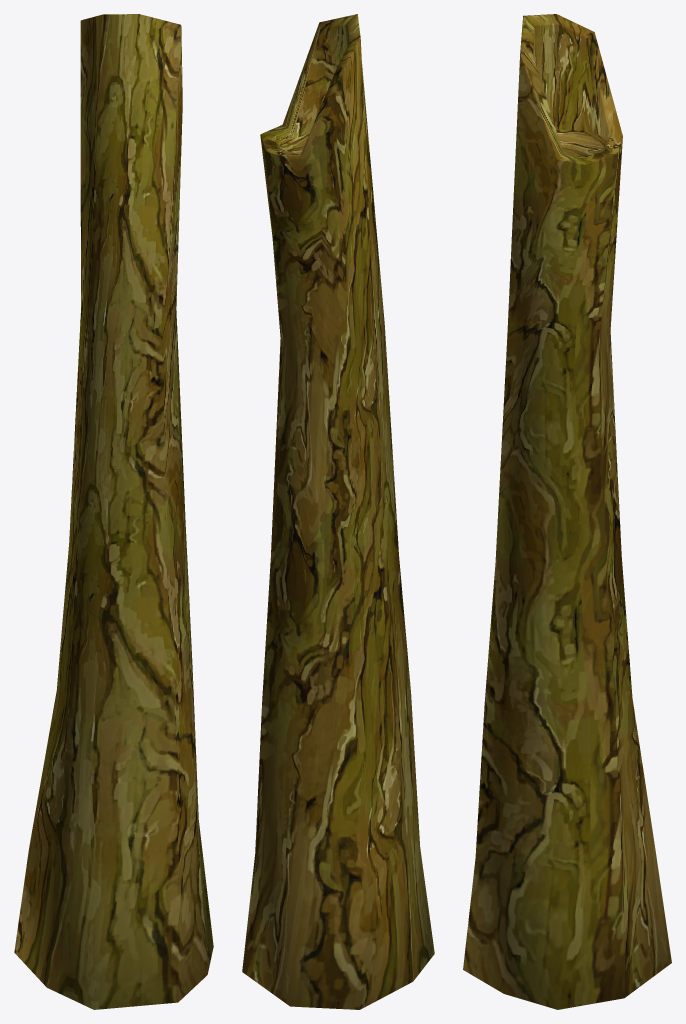
The model's file is hut_env_treestump_03.glb.
3 views of the same model, side by side, from view 1: azimuth 30°, elevation 25°; view 2: azimuth 150°, elevation 25°; view 3: azimuth 270°, elevation 25° (orthographic). The views are drawn at different scales.
Visible parts, largest first — view 1: hut_env_treestump_03; view 2: hut_env_treestump_03; view 3: hut_env_treestump_03.
Part boxes in pixels (x1=…): hut_env_treestump_03: x1=14, y1=14, x2=213, y2=1009; hut_env_treestump_03: x1=242, y1=14, x2=434, y2=1009; hut_env_treestump_03: x1=463, y1=14, x2=671, y2=1009.
Size of the model in its own units: 0.0529 by 0.2928 by 0.0583.
Materials: 1 (1 with a texture image).
